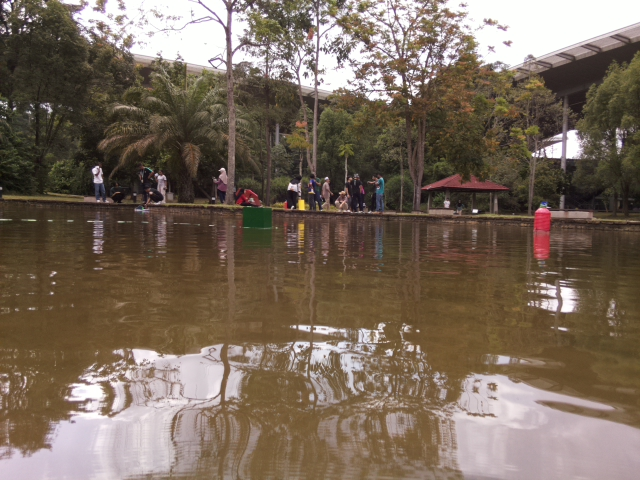obstacle: (241, 206, 274, 230)
